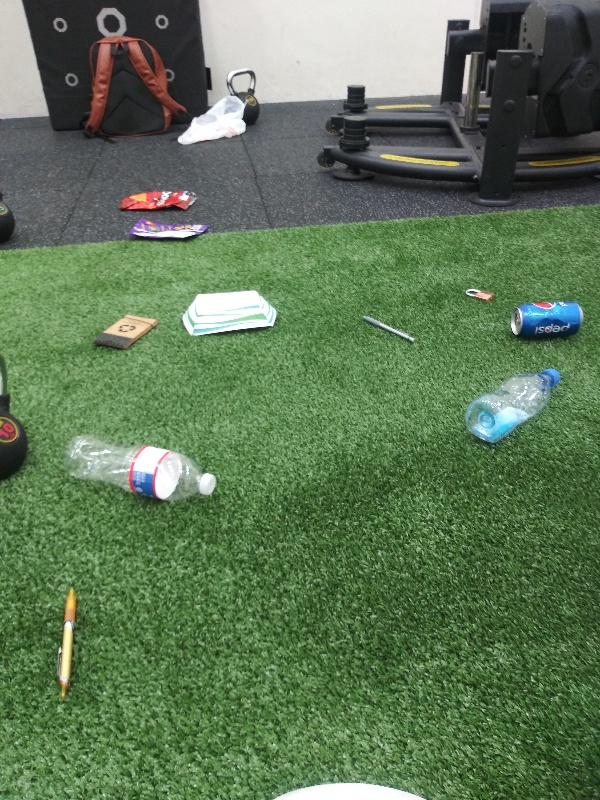bag: (123, 212, 211, 245), (117, 187, 203, 213)
bottle: (59, 431, 219, 511), (462, 364, 564, 449)
can: (505, 294, 589, 342)
plate: (177, 287, 281, 337)
